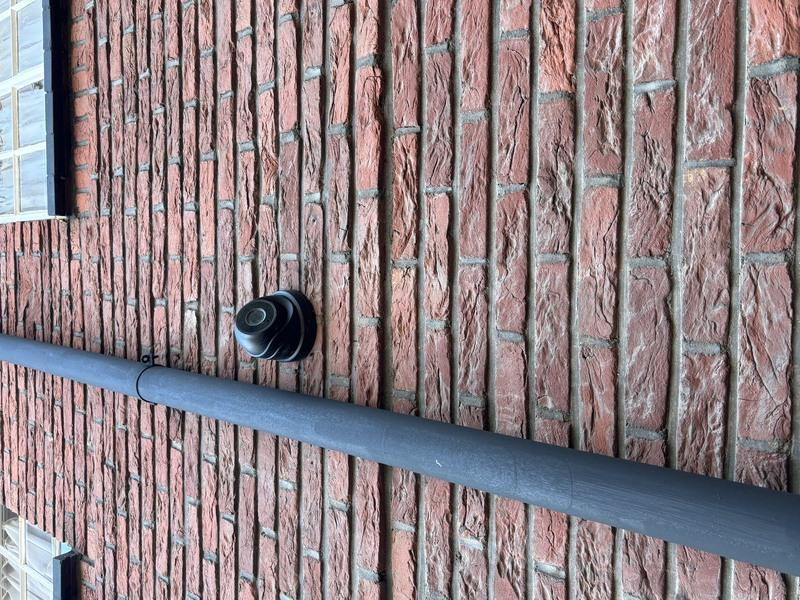turret: (231, 236, 318, 316)
